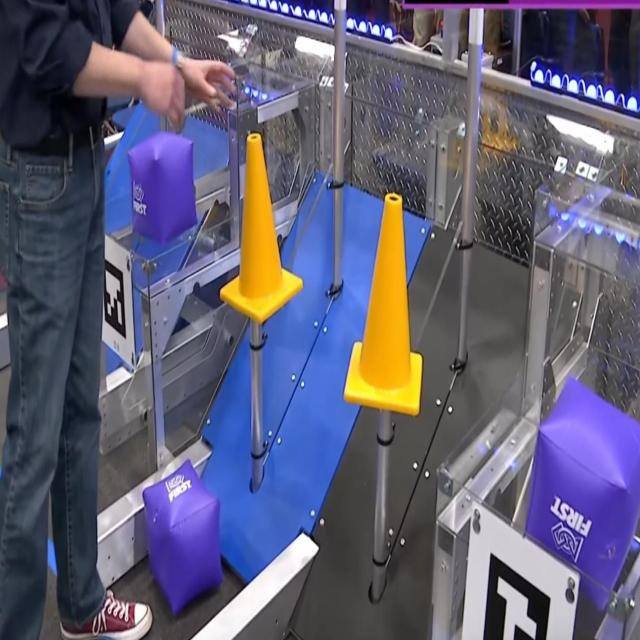frc_cone: (343, 190, 424, 417), (217, 132, 305, 323)
frc_cube: (525, 375, 640, 612), (140, 464, 222, 614), (128, 132, 198, 242)
